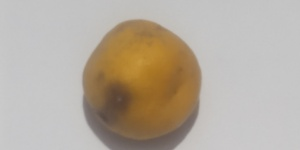BAD: (82, 15, 203, 138)
